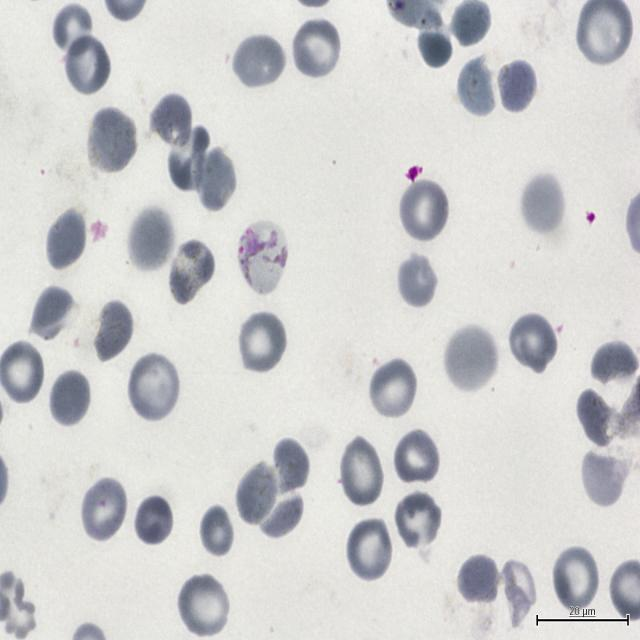red blood cell: (85, 106, 138, 176), (128, 352, 180, 422), (291, 15, 343, 82), (178, 573, 230, 639), (399, 177, 450, 244), (345, 515, 394, 584), (507, 309, 559, 374), (444, 327, 496, 392), (80, 475, 128, 545), (168, 241, 218, 308), (165, 125, 212, 196), (578, 1, 630, 65), (338, 438, 385, 508), (552, 545, 601, 612), (368, 356, 418, 421), (237, 310, 287, 375), (520, 172, 568, 238), (234, 461, 280, 529), (64, 32, 112, 97), (0, 338, 45, 407), (393, 490, 442, 553), (233, 32, 286, 90), (392, 427, 441, 488), (28, 282, 76, 344), (127, 209, 174, 272), (574, 388, 622, 449), (193, 147, 237, 212), (44, 208, 88, 272), (148, 91, 194, 151), (92, 299, 134, 363), (455, 57, 497, 120), (48, 368, 92, 428), (498, 559, 539, 622), (580, 454, 626, 509), (52, 2, 95, 59), (456, 553, 500, 608), (396, 252, 438, 309), (496, 58, 538, 114), (587, 339, 639, 383), (133, 493, 175, 547), (272, 436, 311, 492), (198, 503, 236, 559), (416, 15, 454, 71), (260, 495, 304, 538)
trophozoite: (237, 220, 288, 295)
